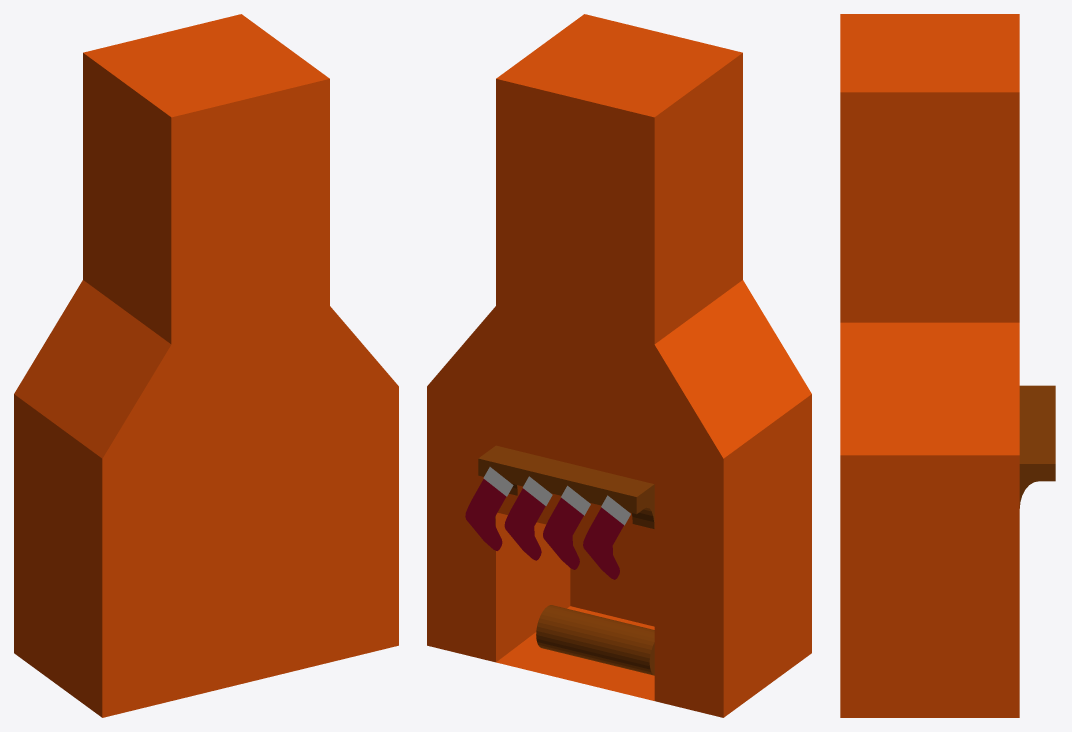
Rendered from chimney.fbx.
3 views of the same model, side by side, from view 1: azimuth 30°, elevation 25°; view 2: azimuth 150°, elevation 25°; view 3: azimuth 270°, elevation 25° (orthographic).
Visible parts, largest first — view 1: Chimney; view 2: Chimney, Wood, Sock.001, Sock, Sock.003, Sock.002; view 3: Chimney.
Part boxes in pixels (x1,y1,x2,y2): Chimney: [14, 14, 398, 717]; Chimney: [427, 14, 811, 717]; Wood: [536, 605, 654, 675]; Sock.001: [504, 476, 552, 560]; Sock: [465, 467, 513, 550]; Sock.003: [583, 495, 630, 579]; Sock.002: [543, 485, 590, 569]; Chimney: [840, 14, 1055, 717].
Size of the model in its own units: 670 by 1261 by 419.
